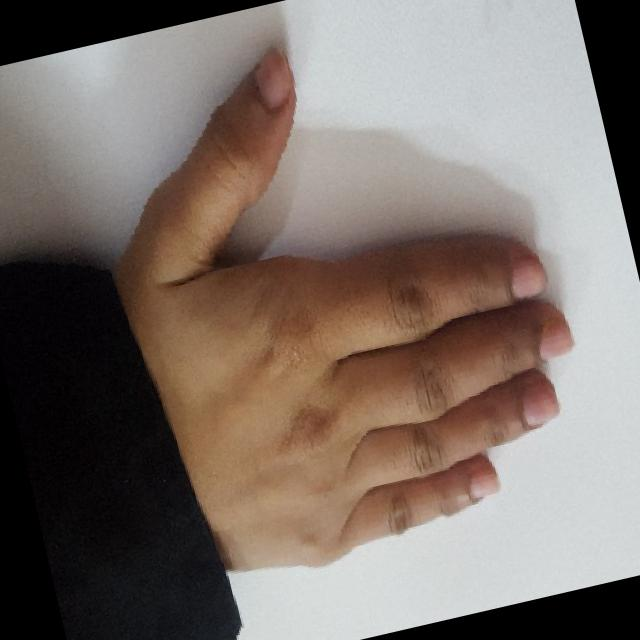Nail: (251, 48, 293, 109), (522, 377, 557, 427), (508, 254, 545, 299), (539, 311, 572, 359), (467, 461, 499, 499)
